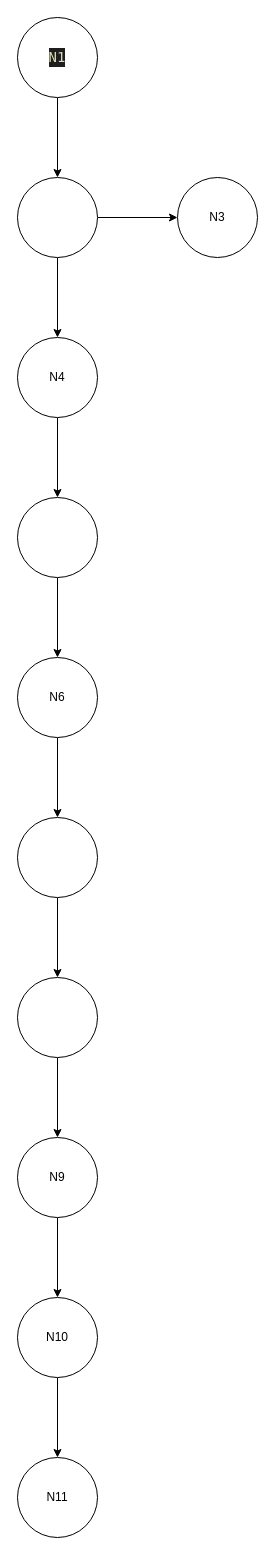
Image size: 275x1555. Some labels were removed from this diagram. Here are the shapes that lost their labels. From the top down, the centre of each, then its label:
(x=57, y=217): N2
(x=57, y=537): N5
(x=57, y=857): N7
(x=57, y=1017): N8
